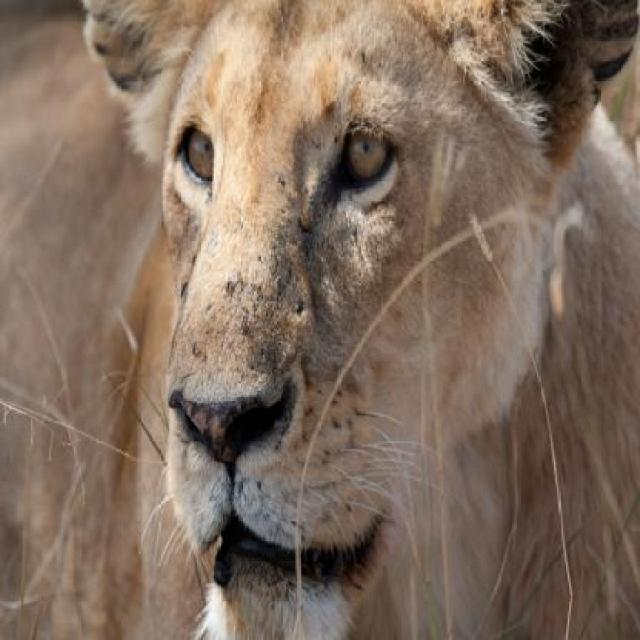Lion: (60, 7, 638, 638)
